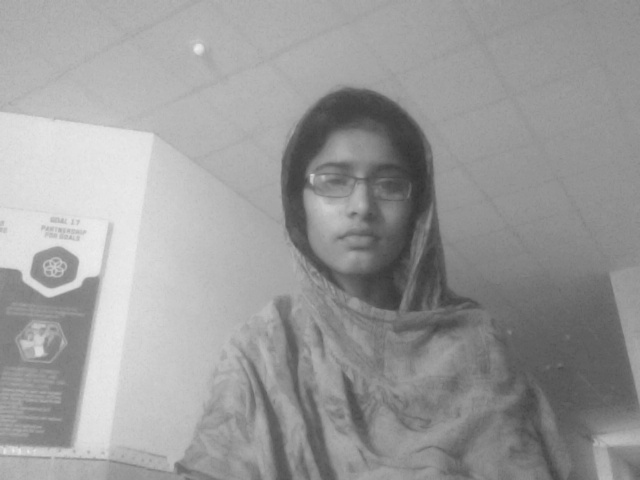Face: (161, 2, 523, 363)
